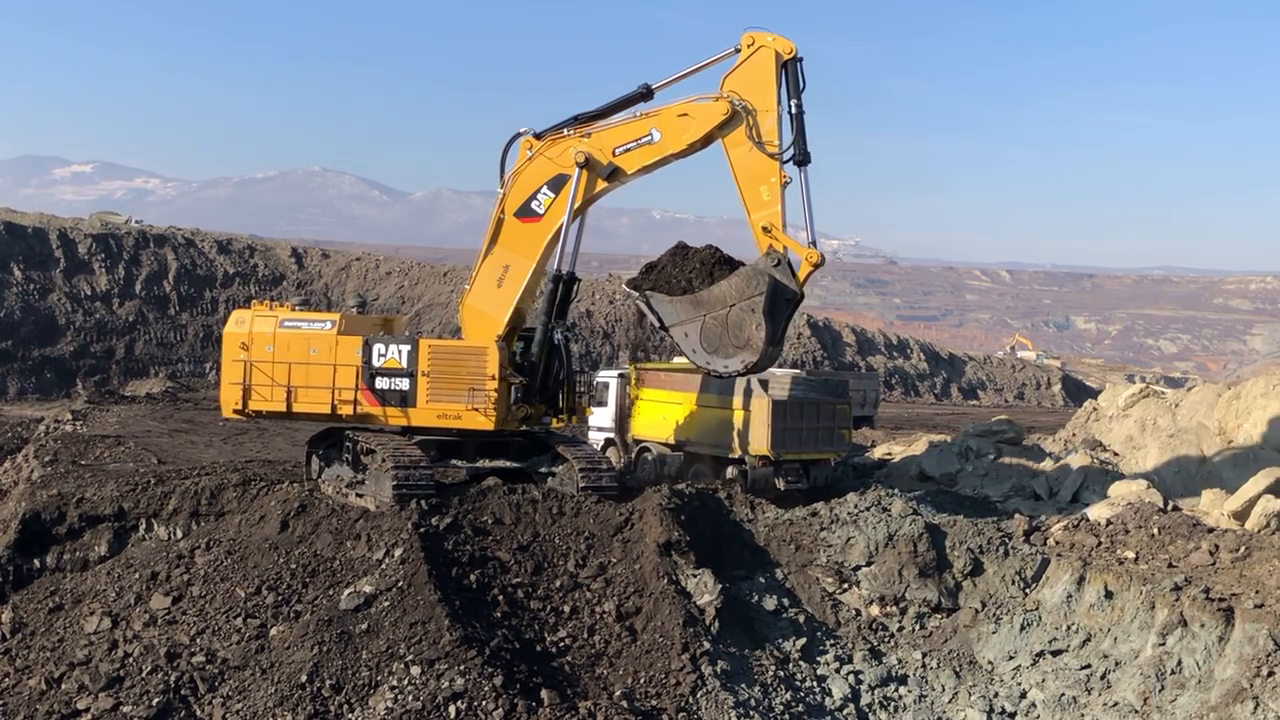full: (627, 242, 807, 375)
